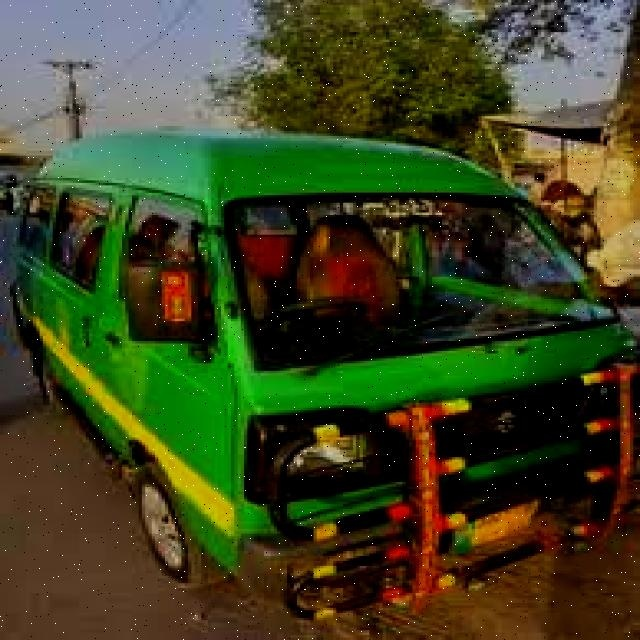Van: (20, 121, 640, 620)
